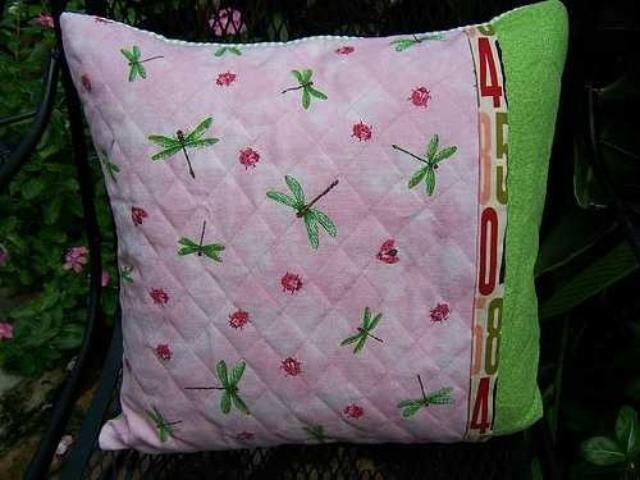pillow: (55, 1, 569, 454)
